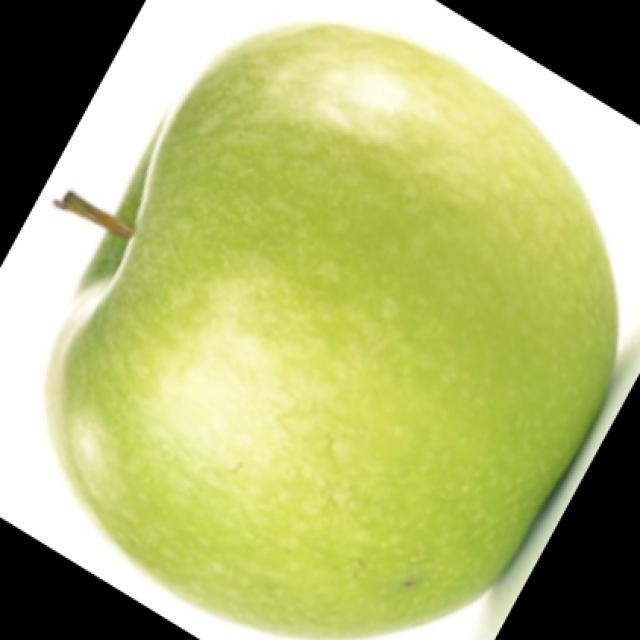Fresh Apple: (41, 23, 615, 635)
